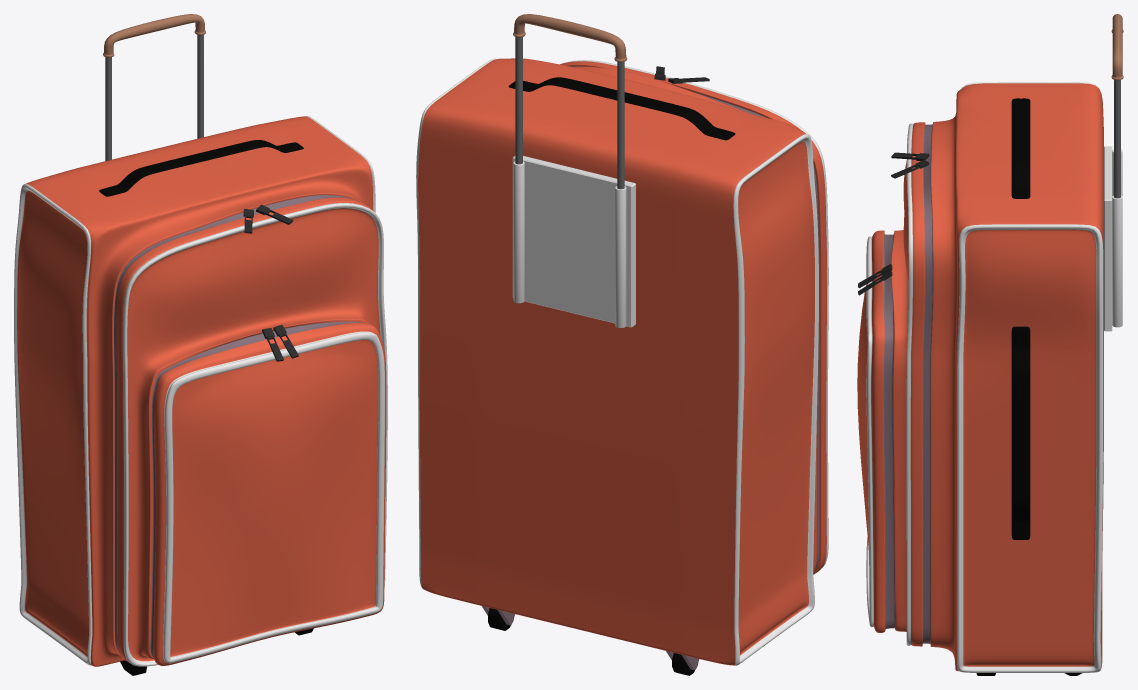
File: BAG2 .fbx
3 views of the same model, side by side, from view 1: azimuth 30°, elevation 25°; view 2: azimuth 150°, elevation 25°; view 3: azimuth 270°, elevation 25° (orthographic). The views are drawn at different scales.
Parts seen in each view (by area): view 1: koffer; view 2: koffer; view 3: koffer.
Boxes of the visible parts, <box> form: koffer: <box>14,14,387,675</box>; koffer: <box>416,14,828,675</box>; koffer: <box>857,14,1123,675</box>.
Bounding box in the file's own units: 181 × 329 × 132.
